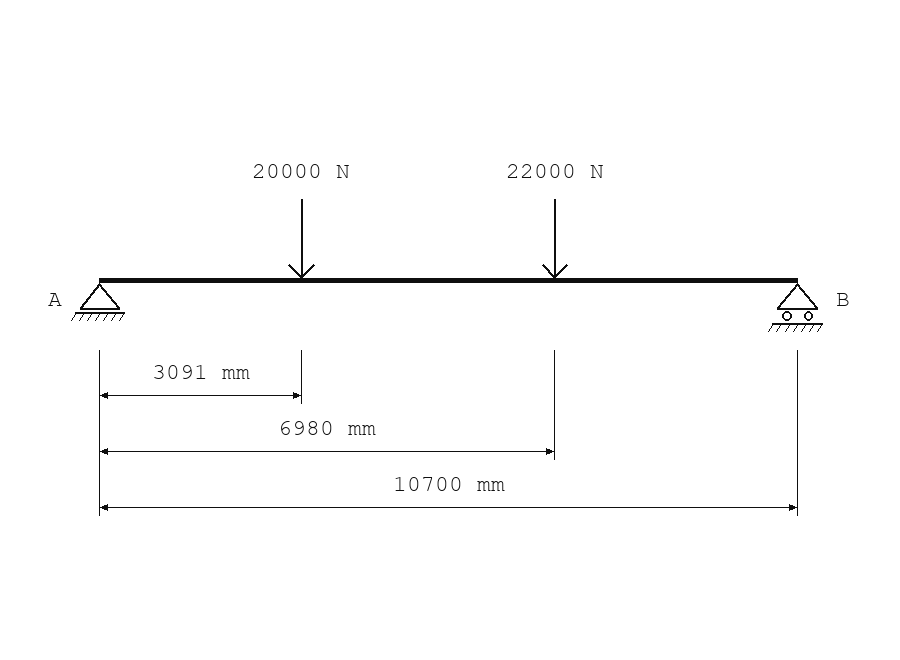pin_support: (71, 283, 125, 321)
point_load: (288, 199, 315, 279), (542, 199, 568, 279)
roller_support: (768, 283, 823, 332)
